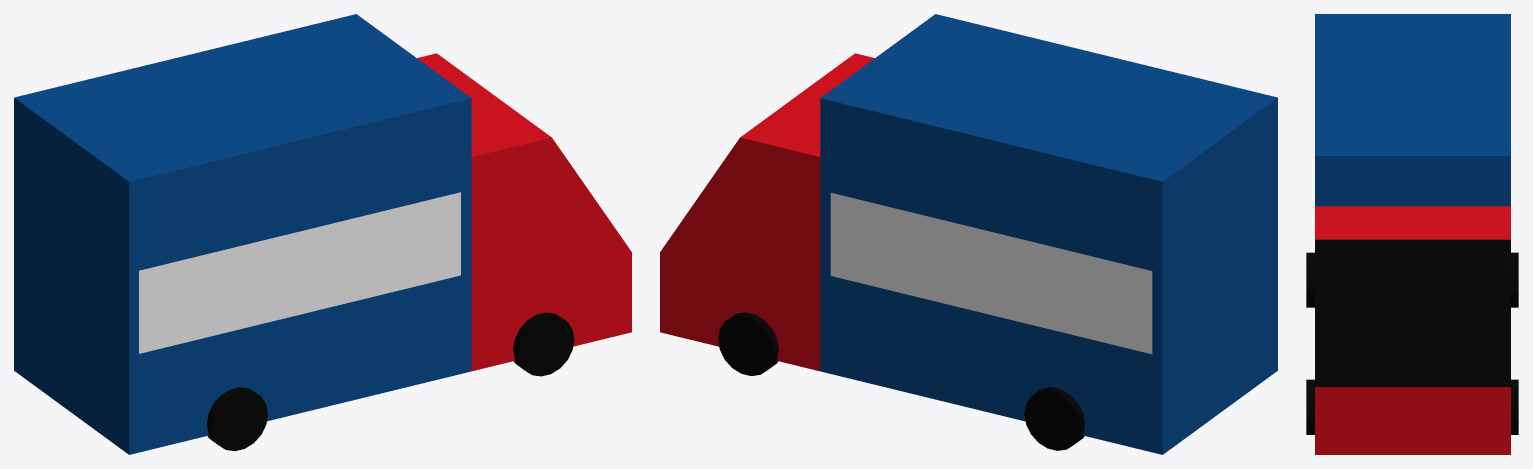
File: truck.gltf
3 renders of one model, left to right at view 1: azimuth 30°, elevation 25°; view 2: azimuth 150°, elevation 25°; view 3: azimuth 270°, elevation 25°, orthographic. The views are drawn at different scales.
Parts seen in each view (by area): view 1: back, front, Libraman.003, frontrightwheel, backrightwheel; view 2: back, front, Libraman.001, frontleftwheel, backleftwheel; view 3: back, front.001, front, frontrightwheel, backrightwheel, frontleftwheel, backleftwheel.
Part boxes in pixels (x1,y1,x2,y2): back: [14, 14, 471, 454]; front: [417, 53, 631, 371]; Libraman.003: [139, 192, 460, 353]; frontrightwheel: [513, 312, 574, 376]; backrightwheel: [206, 387, 267, 451]; back: [820, 14, 1277, 454]; front: [660, 53, 874, 371]; Libraman.001: [830, 193, 1152, 354]; frontleftwheel: [718, 312, 778, 375]; backleftwheel: [1024, 387, 1085, 450]; back: [1315, 14, 1510, 206]; front.001: [1315, 239, 1510, 386]; front: [1315, 206, 1510, 454]; frontrightwheel: [1306, 379, 1314, 434]; backrightwheel: [1306, 252, 1314, 307]; frontleftwheel: [1511, 379, 1518, 434]; backleftwheel: [1511, 252, 1518, 307].
Bounding box in the file's own units: 121 × 66.63 × 51.85.
